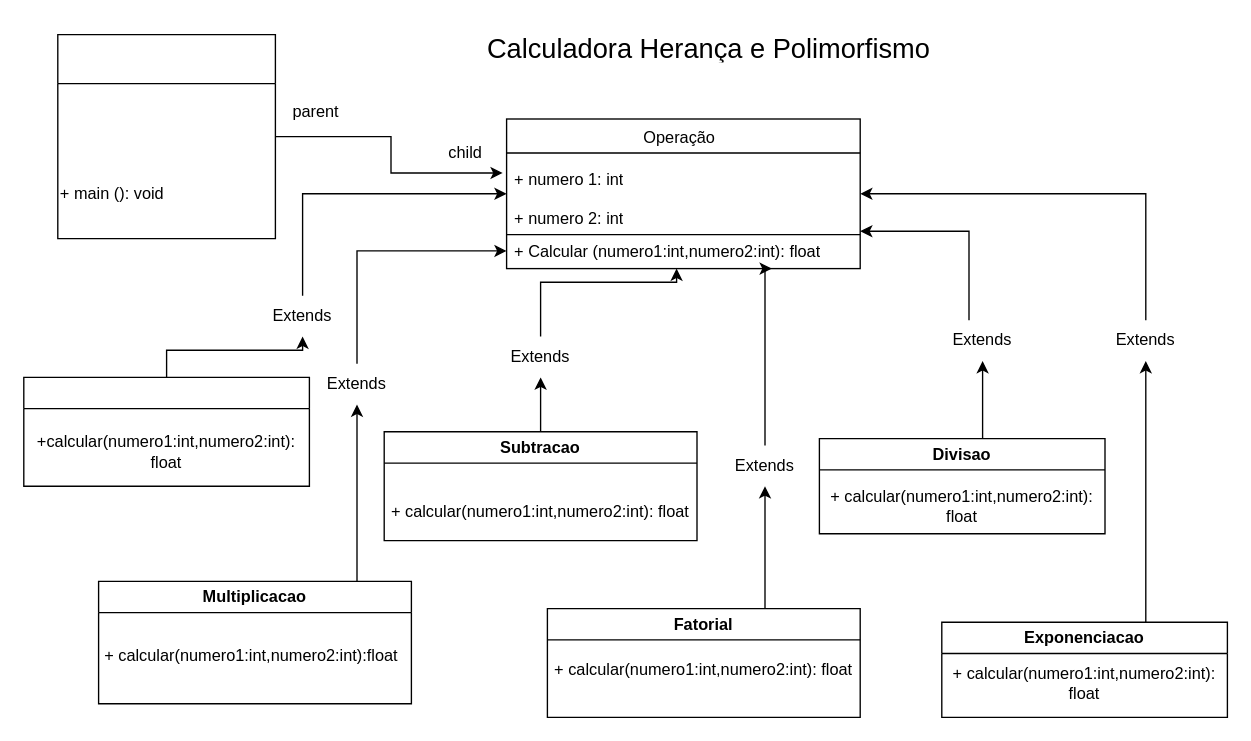
The diagram is 1251 pixels wide and 741 high, and some of its shapes have lost their labels. The box of each missing label's shape, as (x1, y1, x2, y2) in pixels:
Adicao: (22, 376, 309, 486)
Calculadora: (56, 33, 275, 239)
